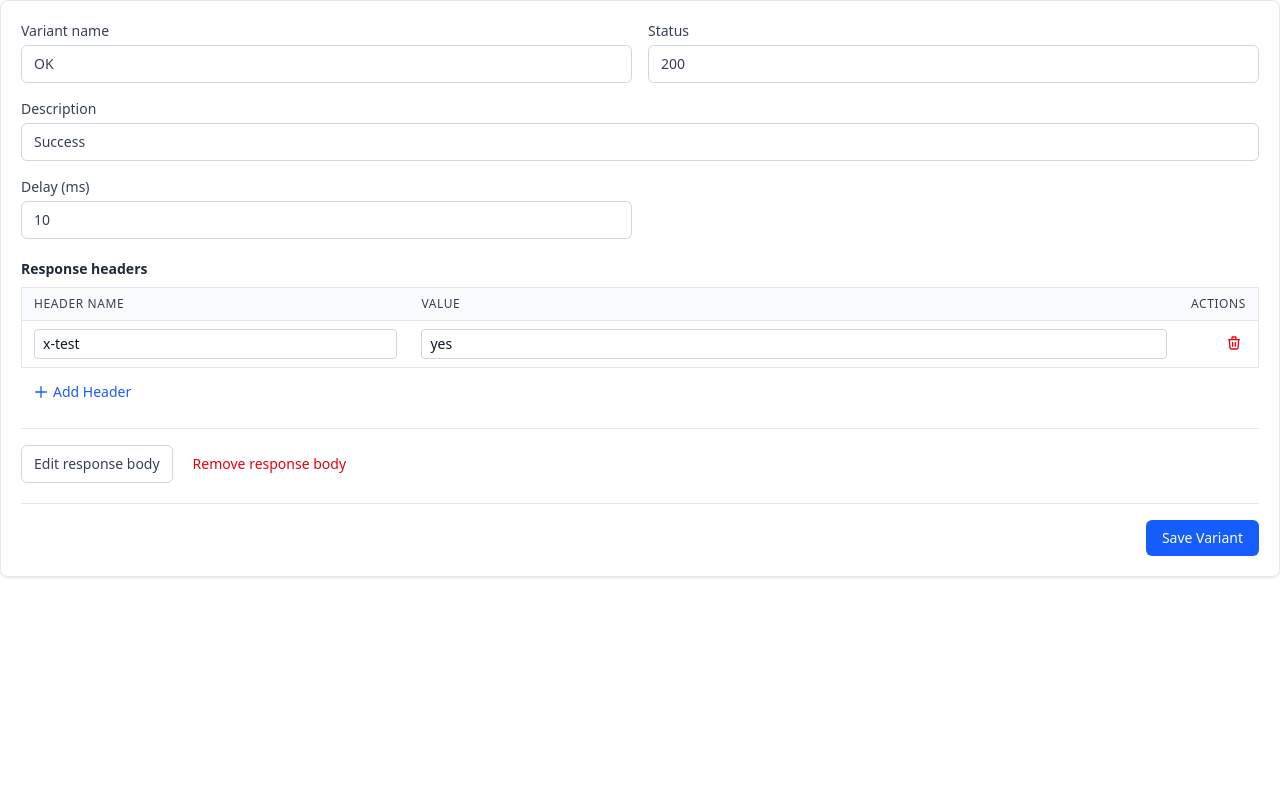
Test: VariantEditor › blocks save and keeps a temporary blank header row when its name is empty
Click the button "Add Header": x=82, y=392 [21, 376, 143, 408]
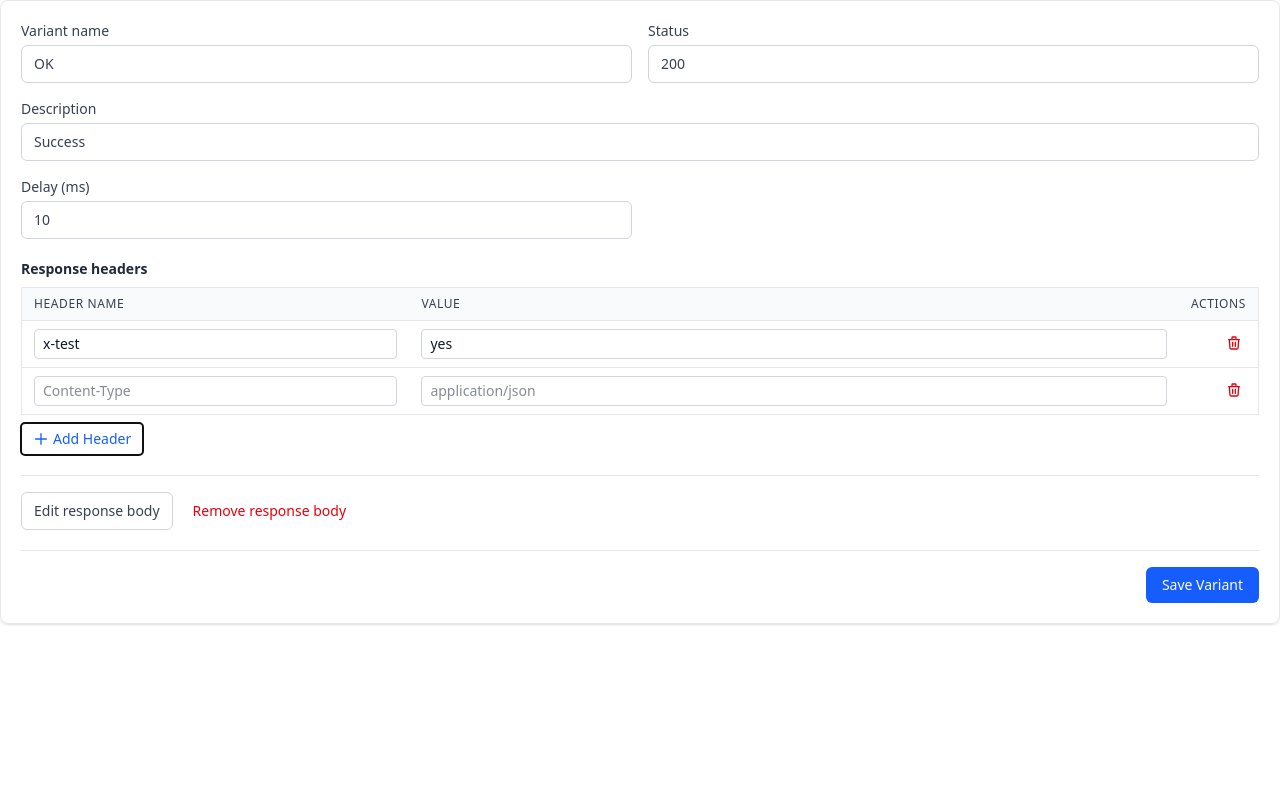
Click the button "Save Variant": x=1202, y=585 [1146, 567, 1259, 603]
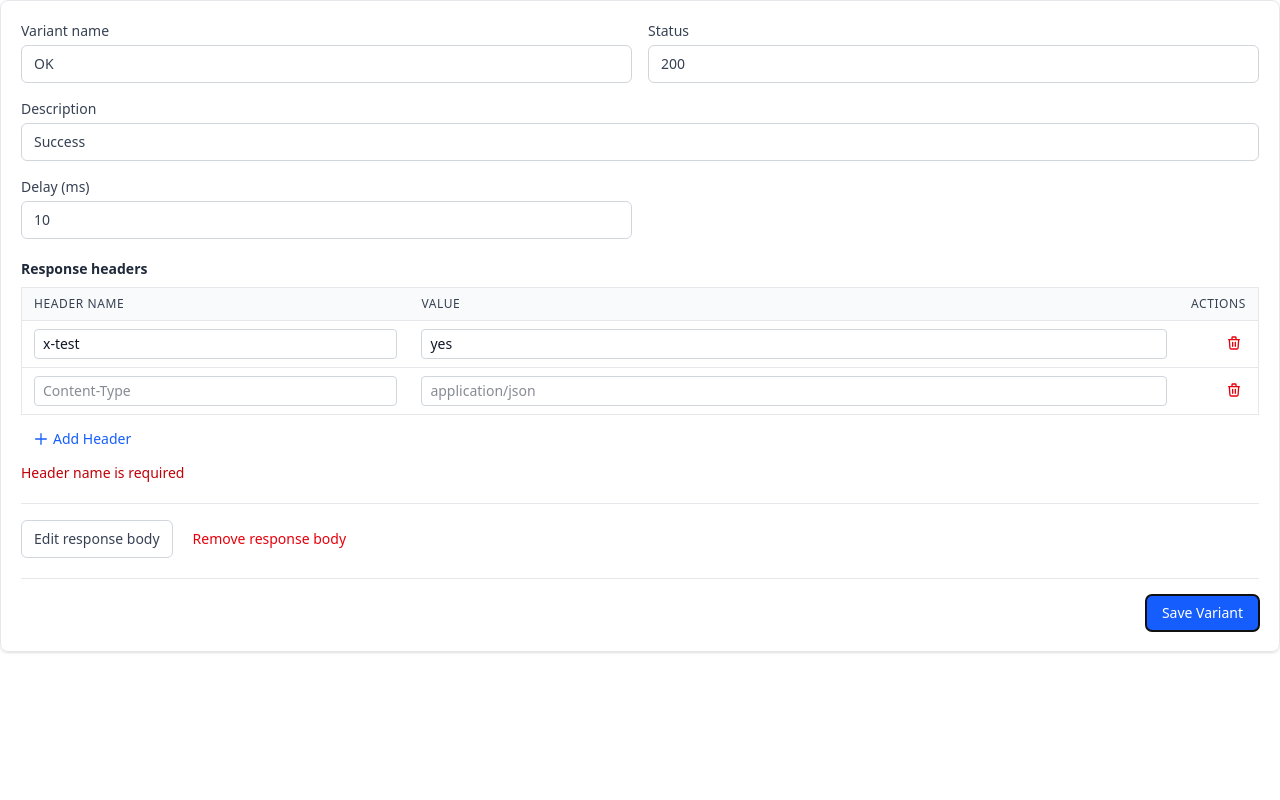
Check: the number of fields with placeholder "Content-Type" is 2, box [34, 329, 397, 359]; [34, 376, 397, 406]
Check: the field with placeholder "Content-Type" is empty, box [34, 376, 397, 406]
Check: the text "Header name is required" is shown, box [21, 463, 184, 482]
